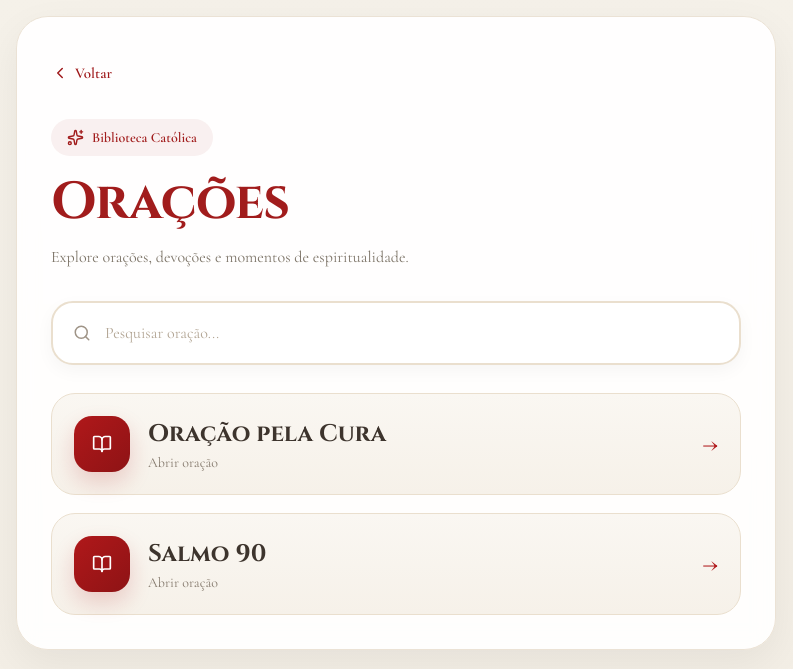
Test: CategoryPrayers › filters by an accent-insensitive search
Expected: the text "Oração pela Cura" is shown, [148,418,386,450]
Type "salmo" into the field with placeholder "Pesquisar oração...". click: {"x": 412, "y": 333}
box: [105,303,719,363]
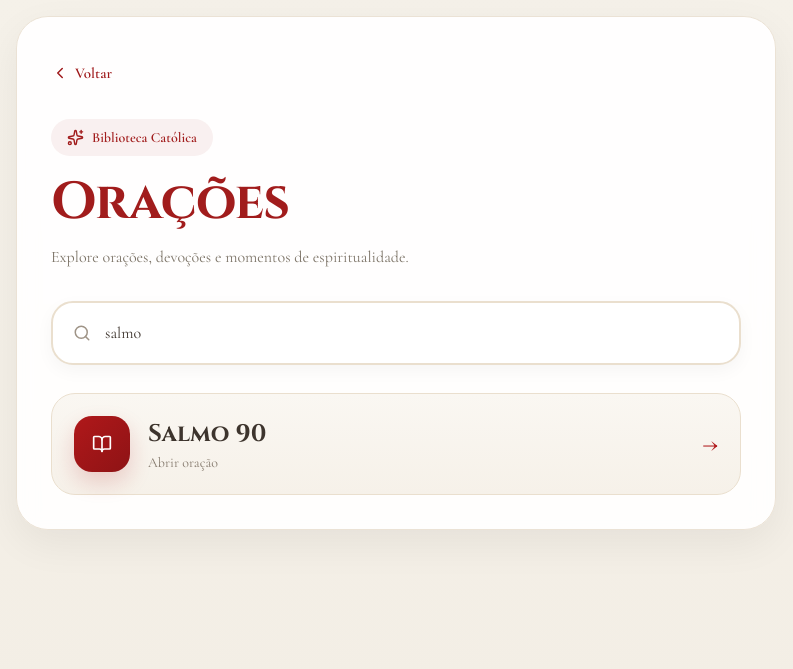
Expected: the text "Salmo 90" is shown, [148,418,266,450]
Now the button "Oração pela Cura" is gone
